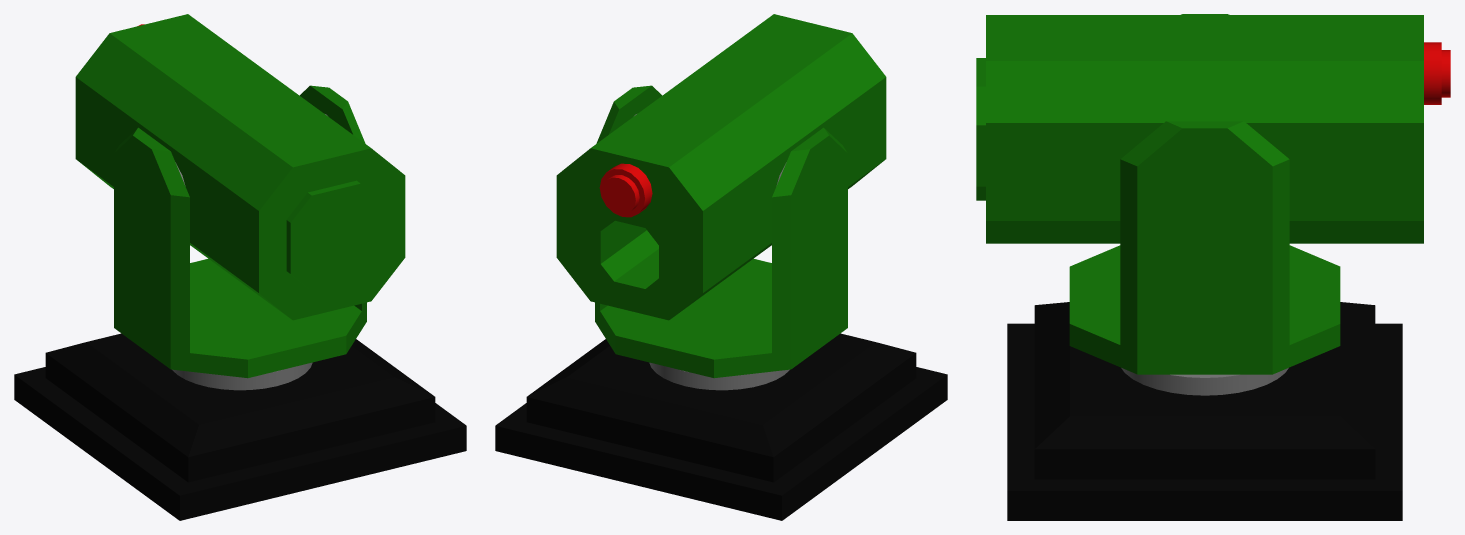
Rendered from turret3_1.fbx.
3 views of the same model, side by side, from view 1: azimuth 30°, elevation 25°; view 2: azimuth 150°, elevation 25°; view 3: azimuth 270°, elevation 25° (orthographic). The views are drawn at different scales.
Visible parts, largest first — view 1: Cube.034, Cube.032, Cube.033, Cylinder.017; view 2: Cube.034, Cube.032, Cube.033, Cylinder.019, Cylinder.017; view 3: Cube.034, Cube.032, Cube.033, Cylinder.017, Cylinder.019.
Part boxes in pixels (box(x1,y1,x2,y2)): Cube.034: box(75, 14, 405, 320); Cube.032: box(14, 333, 466, 520); Cube.033: box(114, 85, 366, 378); Cylinder.017: box(172, 362, 312, 390); Cube.034: box(556, 14, 886, 320); Cube.032: box(495, 333, 947, 520); Cube.033: box(595, 85, 847, 378); Cylinder.019: box(599, 163, 652, 217); Cylinder.017: box(649, 362, 789, 390); Cube.034: box(976, 15, 1423, 243); Cube.032: box(1007, 302, 1402, 520); Cube.033: box(1069, 14, 1340, 374); Cylinder.017: box(1121, 368, 1288, 395); Cylinder.019: box(1424, 42, 1450, 104).
Size of the model in its own units: 418 by 465 by 501.
